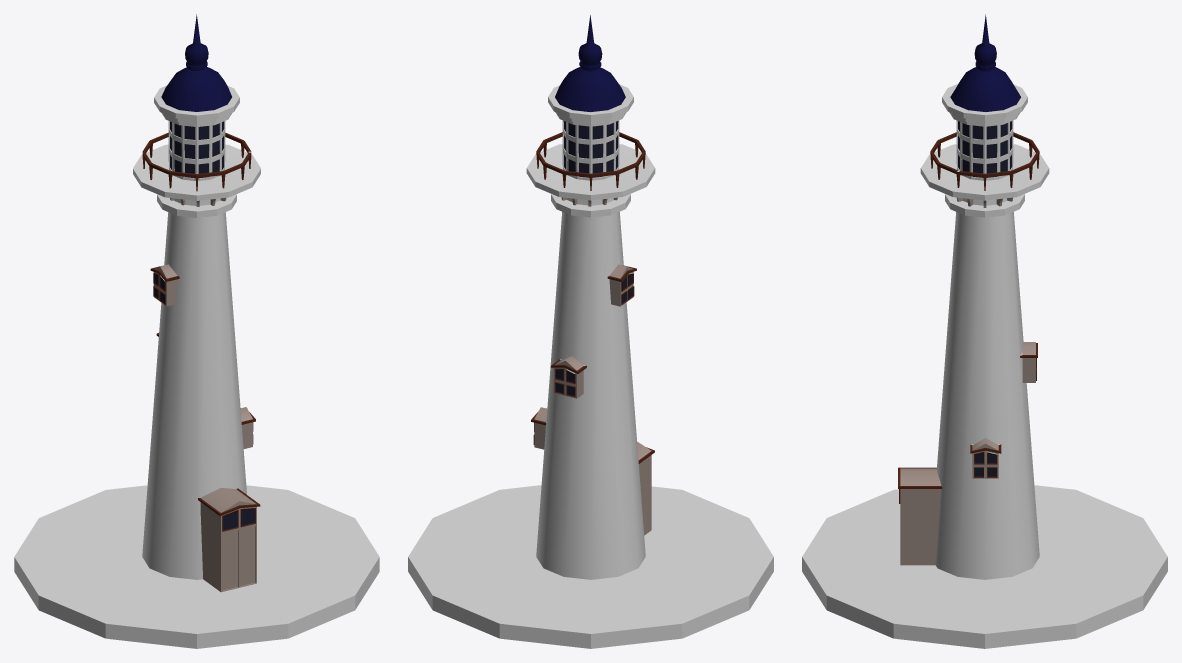
The model's file is lighthouse.obj.
The picture shows the model from 3 angles, left to right: view 1: azimuth 30°, elevation 25°; view 2: azimuth 150°, elevation 25°; view 3: azimuth 270°, elevation 25°; orthographic projection.
Visible parts, largest first — view 1: polySurface50; view 2: polySurface50; view 3: polySurface50.
Part boxes in pixels (x1=…): polySurface50: x1=14, y1=14, x2=379, y2=648; polySurface50: x1=408, y1=15, x2=773, y2=648; polySurface50: x1=802, y1=14, x2=1167, y2=648.
Bounding box in the file's own units: 831 × 1399 × 831.
